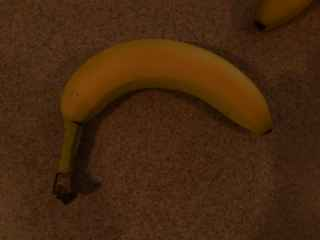banana: (37, 35, 277, 210)
